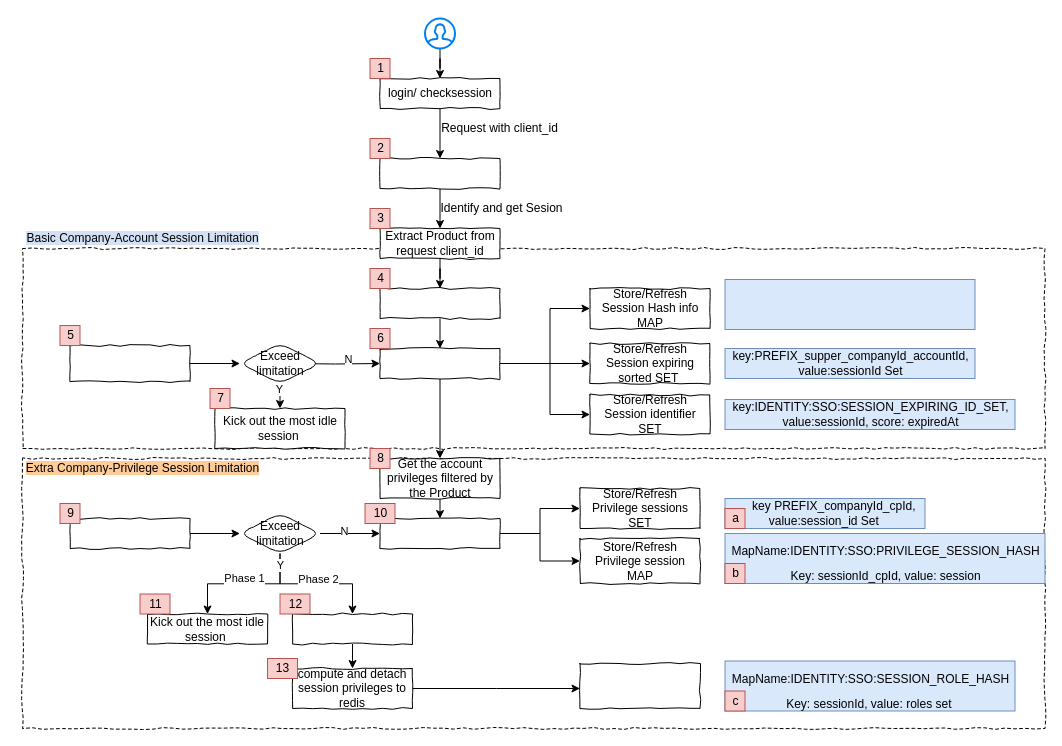
This 1062x746 diagram has some shape labels left out. The shapes that lost their labels are listed below. From the top down, each one's centre as x and y in pixels, then its label:
point (439, 173): SSO Authentication
point (439, 303): Identity authenticate
point (849, 304): MapName:IDENTITY:SSO:SESSION_HASH Key: sessionId, value: session
point (129, 363): Check basic session limitation(Not privilege)
point (439, 363): Save basic session
point (129, 533): Check extra session limitation
point (439, 533): Add extra privilege session
point (352, 628): Only remove the most idle privilege session
point (639, 685): Store/Refresh session roles MAP
